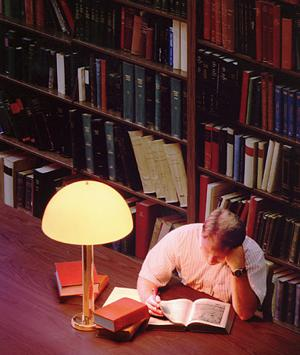person: (137, 207, 267, 321)
